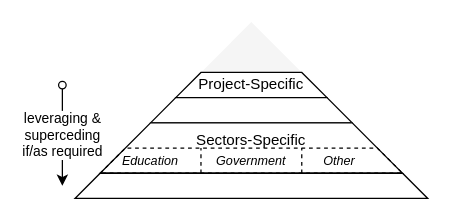
This 450x221 diagram has some shape labels left out. The centre of each missing label's shape, as x and y in pixels:
"Org-Specific" belongs at point (250, 109).
"System Baseline" belongs at point (251, 185).
